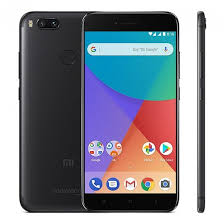mi: (80, 10, 178, 215), (18, 7, 83, 213)
